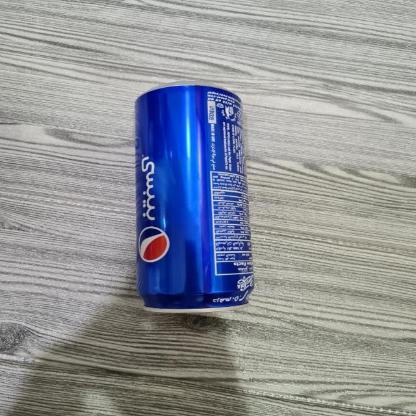Can: (129, 79, 261, 317)
